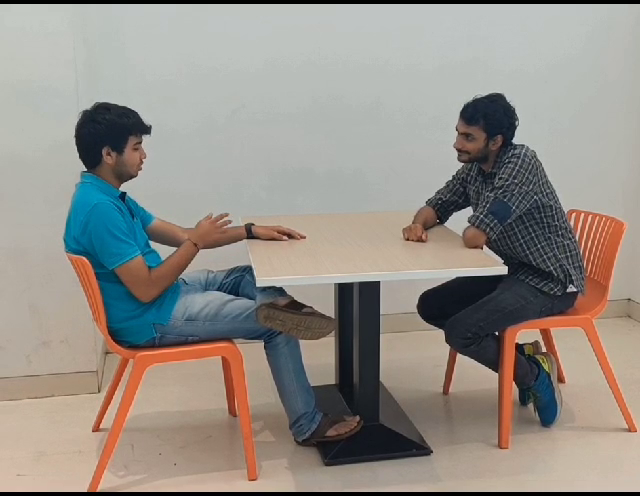person: (65, 96, 156, 189), (452, 89, 524, 165)
